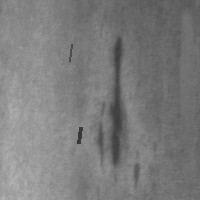inclusion: (90, 32, 129, 171), (67, 42, 73, 63), (76, 125, 82, 145)
